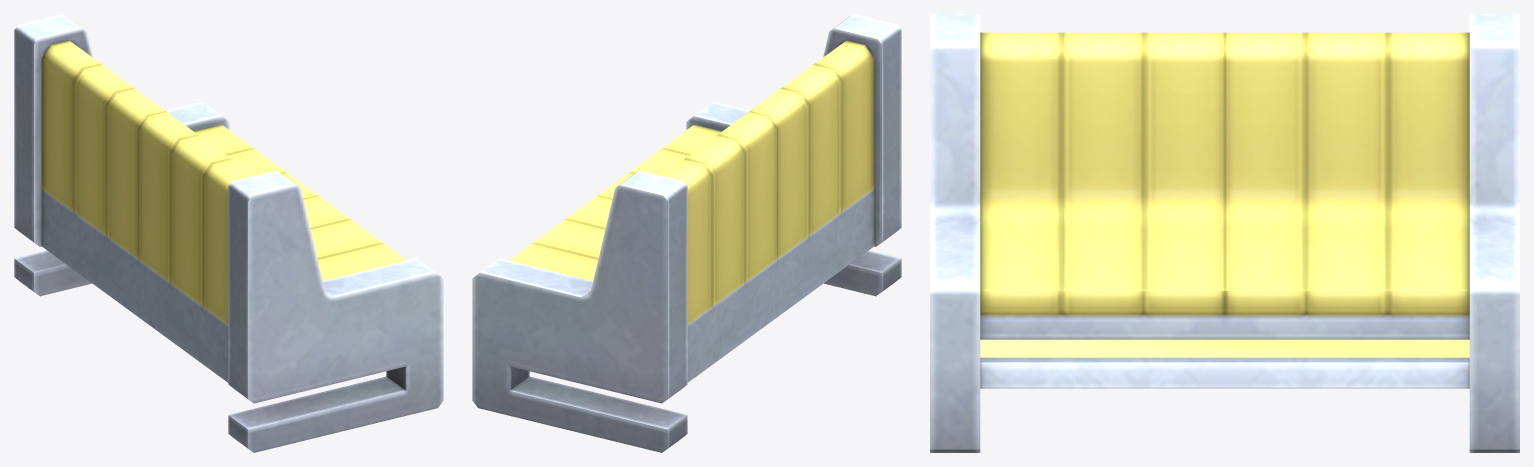
The model's file is obj_bench02.gltf.
The picture shows the model from 3 angles, left to right: view 1: azimuth 30°, elevation 25°; view 2: azimuth 150°, elevation 25°; view 3: azimuth 270°, elevation 25°; orthographic projection. The views are drawn at different scales.
Visible parts, largest first — view 1: obj_bench02; view 2: obj_bench02; view 3: obj_bench02.
Boxes of the visible parts, bbox=[...] form: obj_bench02: bbox=[14, 14, 443, 452]; obj_bench02: bbox=[472, 14, 901, 452]; obj_bench02: bbox=[930, 14, 1519, 452].
Size of what is drawn, in the model's own units: 0.8444 by 1.06 by 1.75.
2 materials, 1 textured.
